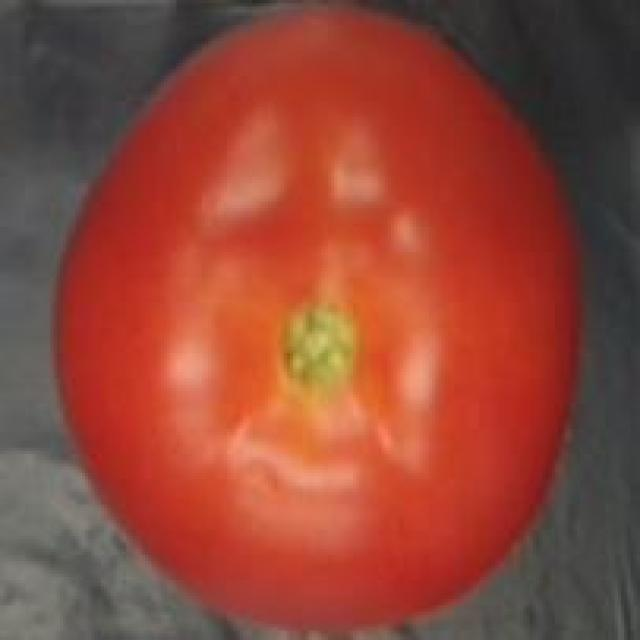ripe tomato: (60, 0, 589, 640)
